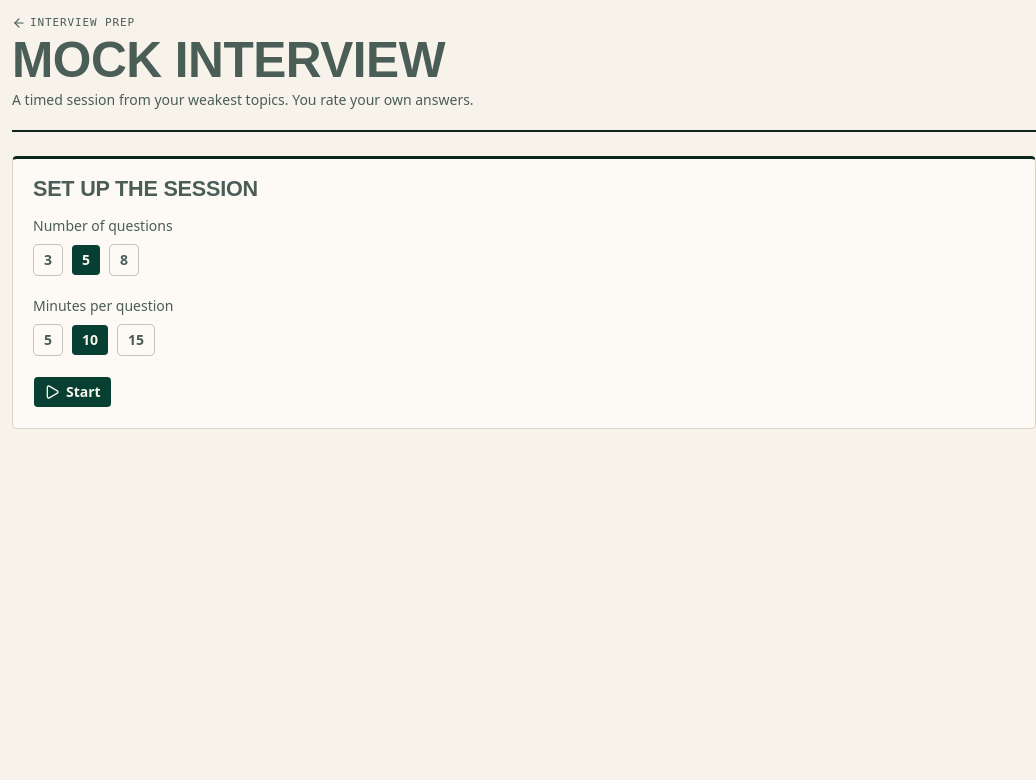
Test: MockInterviewPage › maps ratings to statuses and shows the summary at the end
The width and height of the screenshot is (1036, 780).
Click the button "Start": x=72, y=392 33,376 -> 112,408
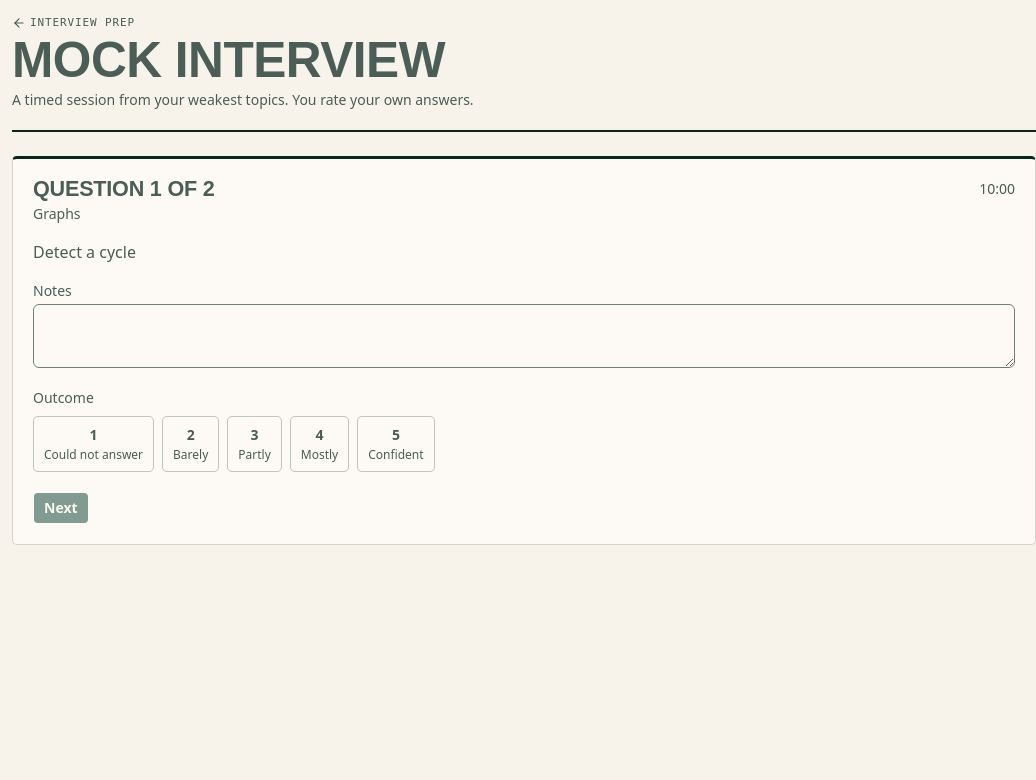
expect the text "Detect a cycle" is shown: met, box 33,241 -> 136,263
Click the button "3 Partly": x=255, y=444 227,416 -> 282,472
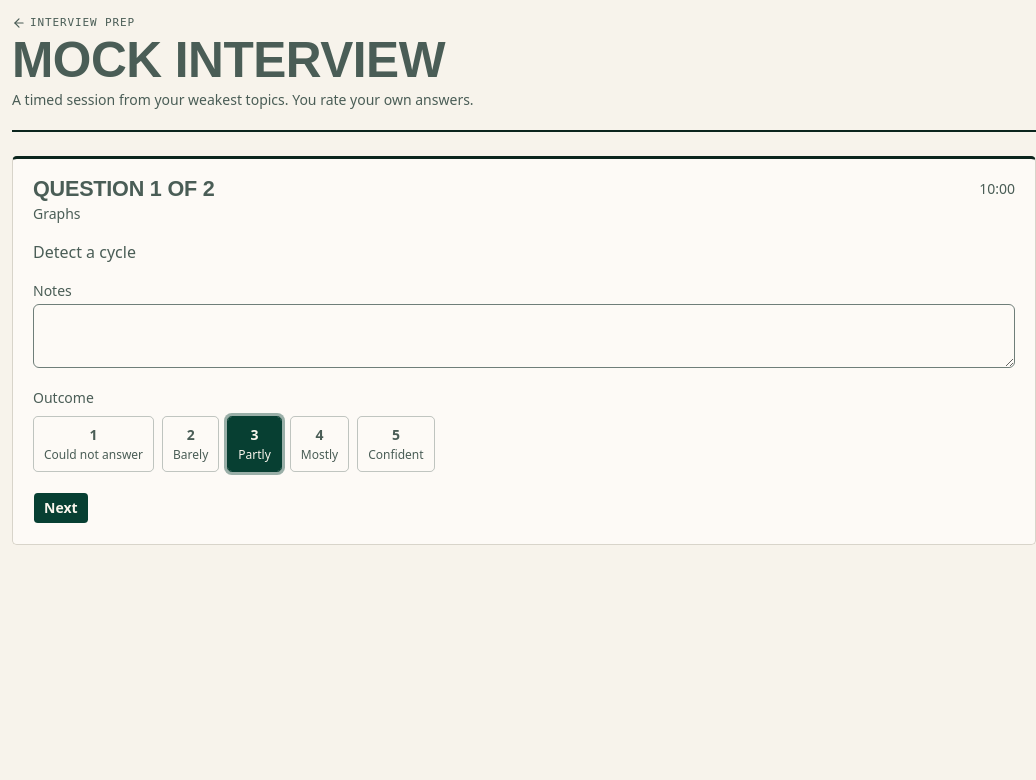
Click the button "Next": x=61, y=508 33,492 -> 88,524
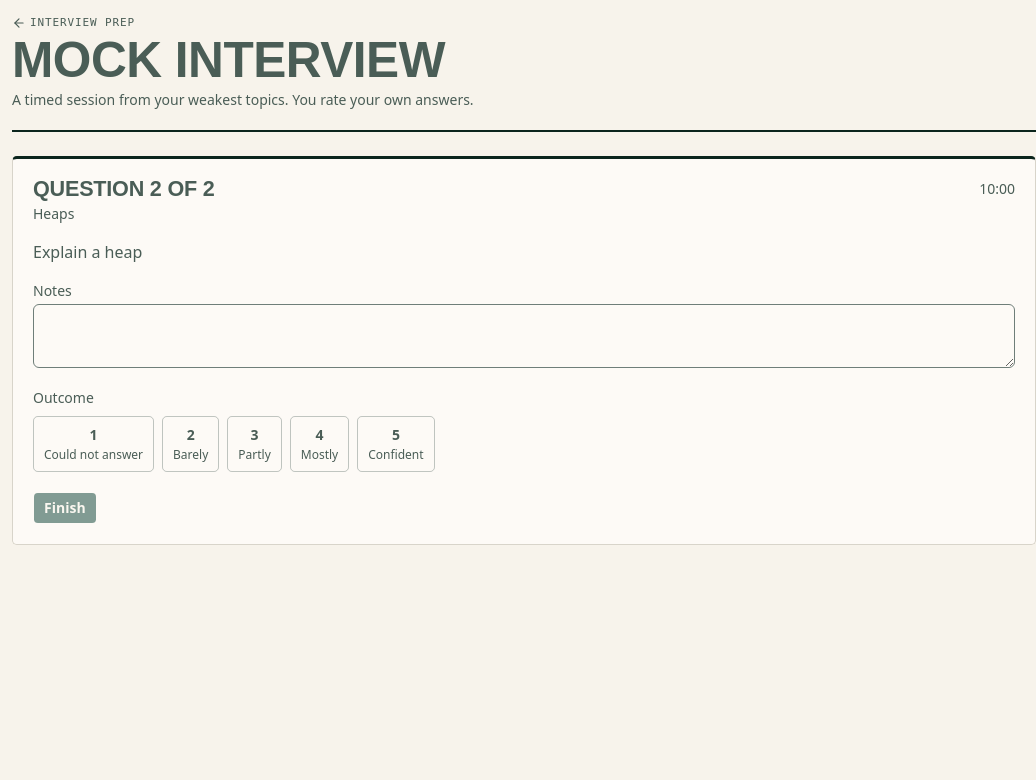
expect the text "Explain a heap" is shown: met, box 33,241 -> 142,263
Click the button "5 Confident": x=396, y=444 357,416 -> 435,472
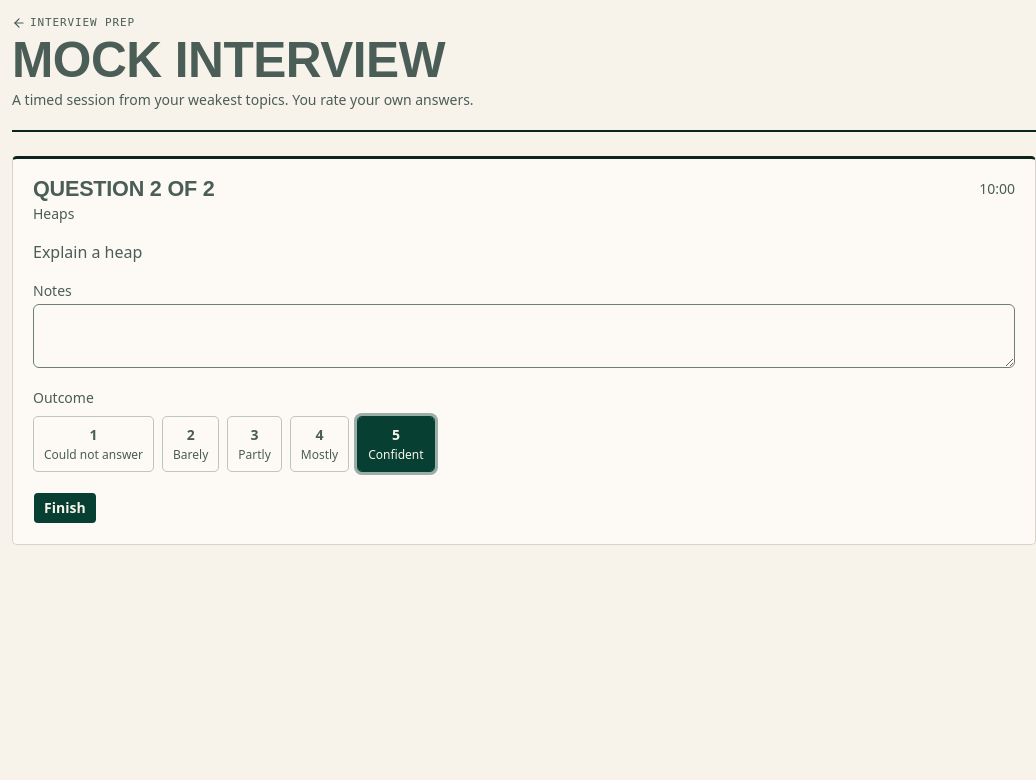
Click the button "Finish": x=65, y=508 33,492 -> 97,524
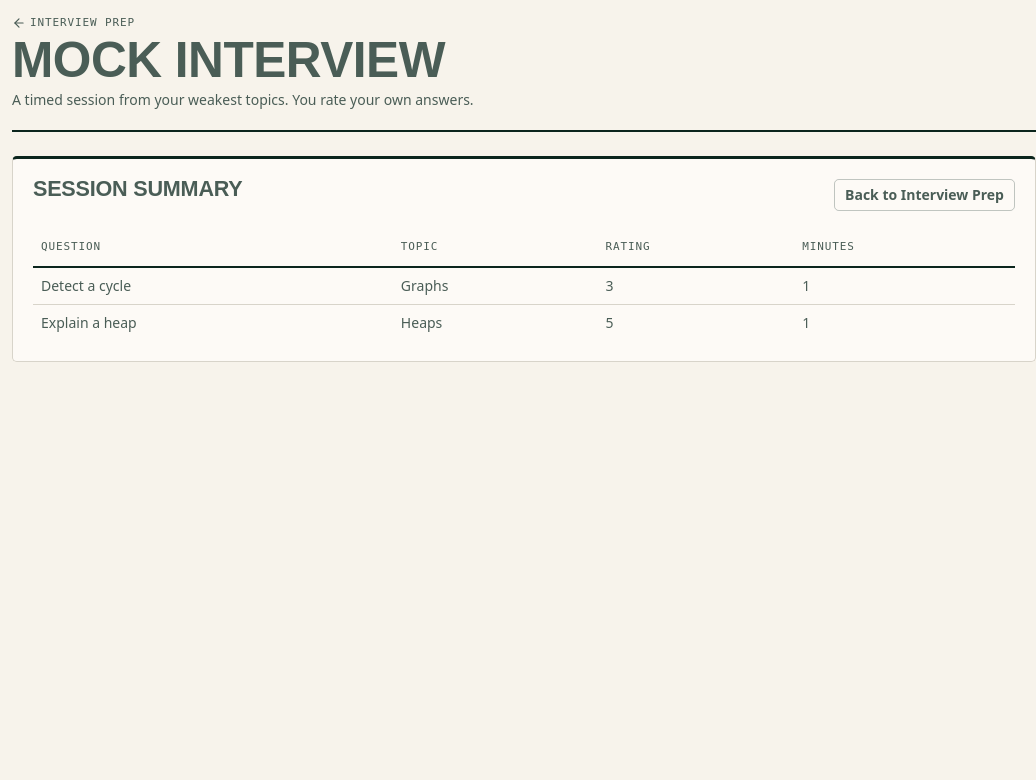
expect the number of rows is 3: met, box 33,227 -> 1015,267; 33,267 -> 1015,305; 33,305 -> 1015,341
expect the text "Detect a cycle" is shown: met, box 33,267 -> 393,305
expect the text "Graphs" is shown: met, box 393,267 -> 598,305
